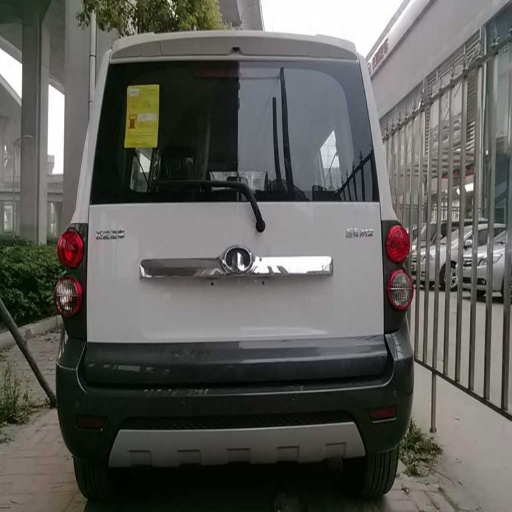back_bumper: (54, 335, 424, 464)
back_glass: (94, 65, 241, 200)
trunk: (88, 205, 380, 380)
